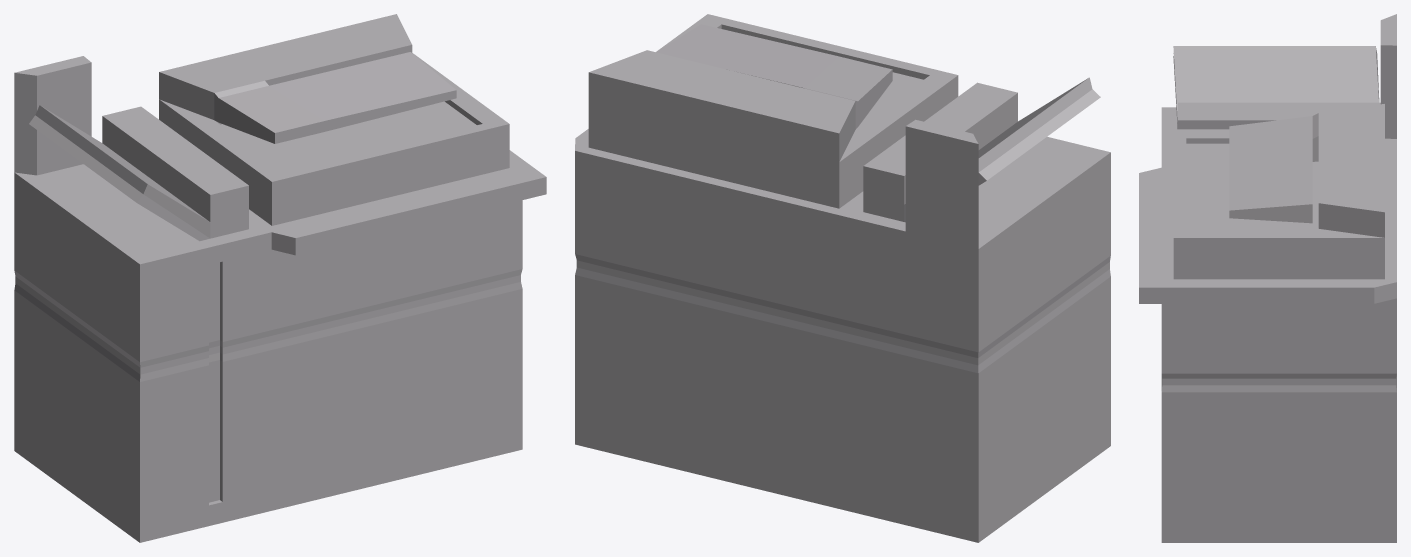
File: printer.glb
3 renders of one model, left to right at view 1: azimuth 30°, elevation 25°; view 2: azimuth 150°, elevation 25°; view 3: azimuth 270°, elevation 25°, orthographic. The views are drawn at different scales.
Parts seen in each view (by area): view 1: Copier.001; view 2: Copier.001; view 3: Copier.001.
Part boxes in pixels (<box>): Copier.001: <box>14,14,546,542</box>; Copier.001: <box>575,14,1110,542</box>; Copier.001: <box>1139,14,1396,542</box>.
Size of the model in its own units: 1.51 by 1.38 by 0.9111.
1 material, 1 textured.
